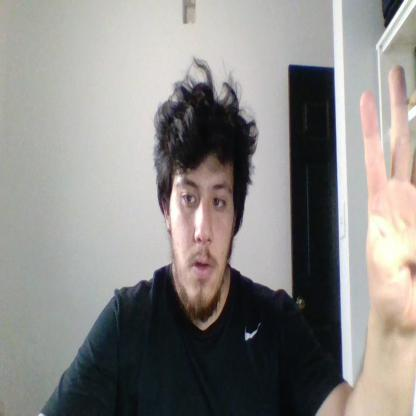W: (360, 64, 415, 331)
